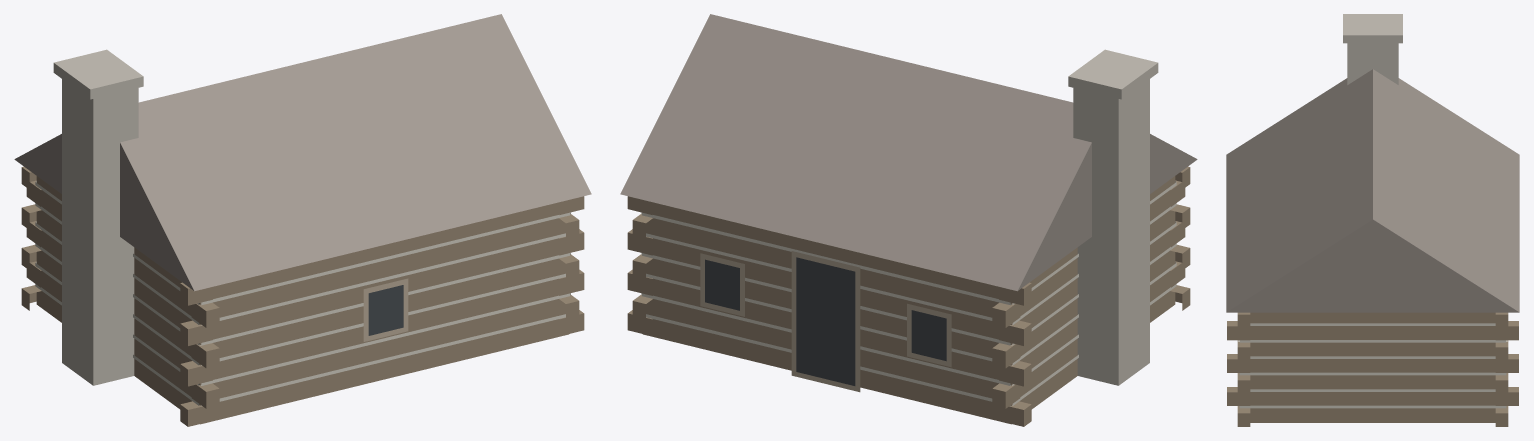
The model's file is robinson_caldwell_cabins__log_1831.glb.
The picture shows the model from 3 angles, left to right: view 1: azimuth 30°, elevation 25°; view 2: azimuth 150°, elevation 25°; view 3: azimuth 270°, elevation 25°; orthographic projection. The views are drawn at different scales.
Parts seen in each view (by area): view 1: robinson_caldwell_cabins__log_1831; view 2: robinson_caldwell_cabins__log_1831; view 3: robinson_caldwell_cabins__log_1831.
Part boxes in pixels (box(x1,y1,x2,y2)): robinson_caldwell_cabins__log_1831: box(14, 14, 591, 426); robinson_caldwell_cabins__log_1831: box(620, 14, 1197, 426); robinson_caldwell_cabins__log_1831: box(1226, 14, 1519, 426).
Bounding box in the file's own units: 7.57 × 5.11 × 5.5.
